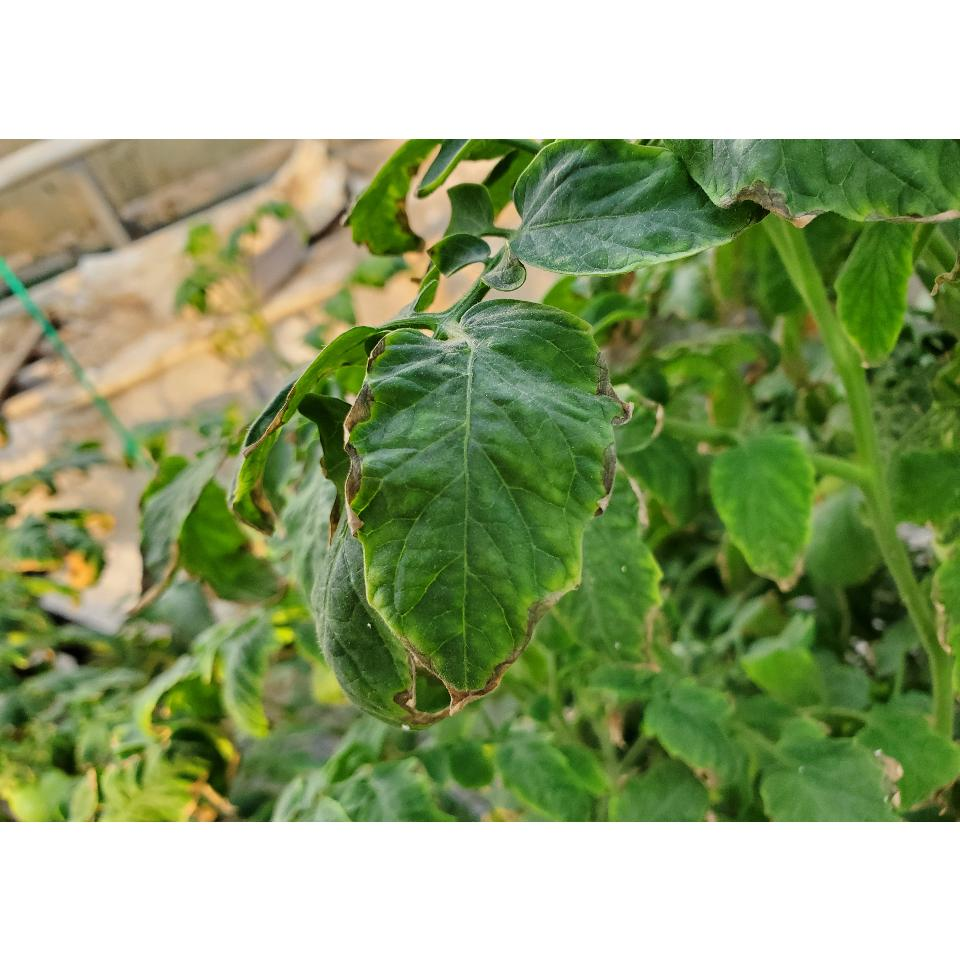tomato_bacterial_blight: (336, 302, 640, 718)
